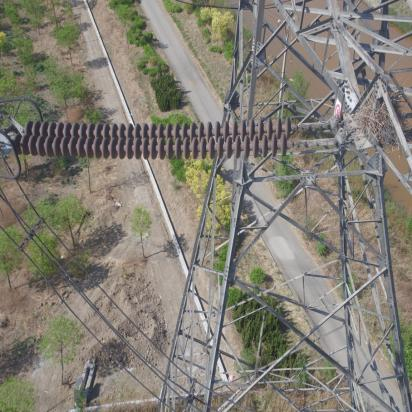insulator: (6, 116, 312, 162)
